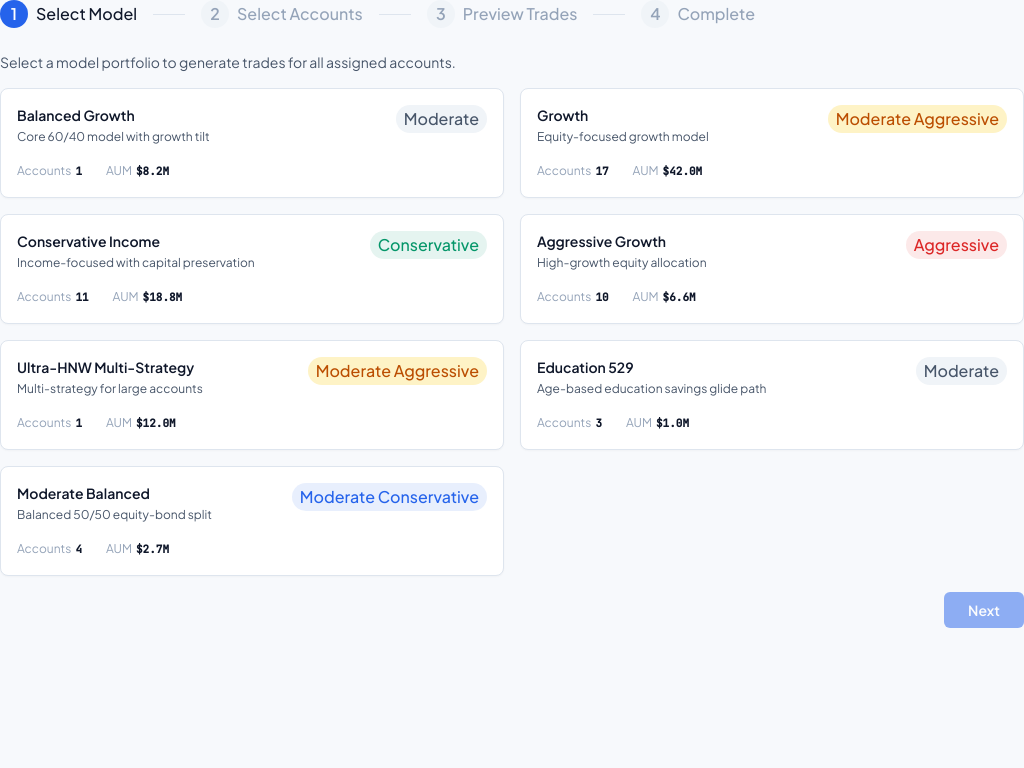
it: ModelTradeView renders the account's own data, not a hash of its id › acc-001 (USD): the already-correct case is unchanged, and the model asked for is named
Click the heading "Balanced Growth".
click(76, 115)  # box top-left (17, 106), bottom-right (135, 124)
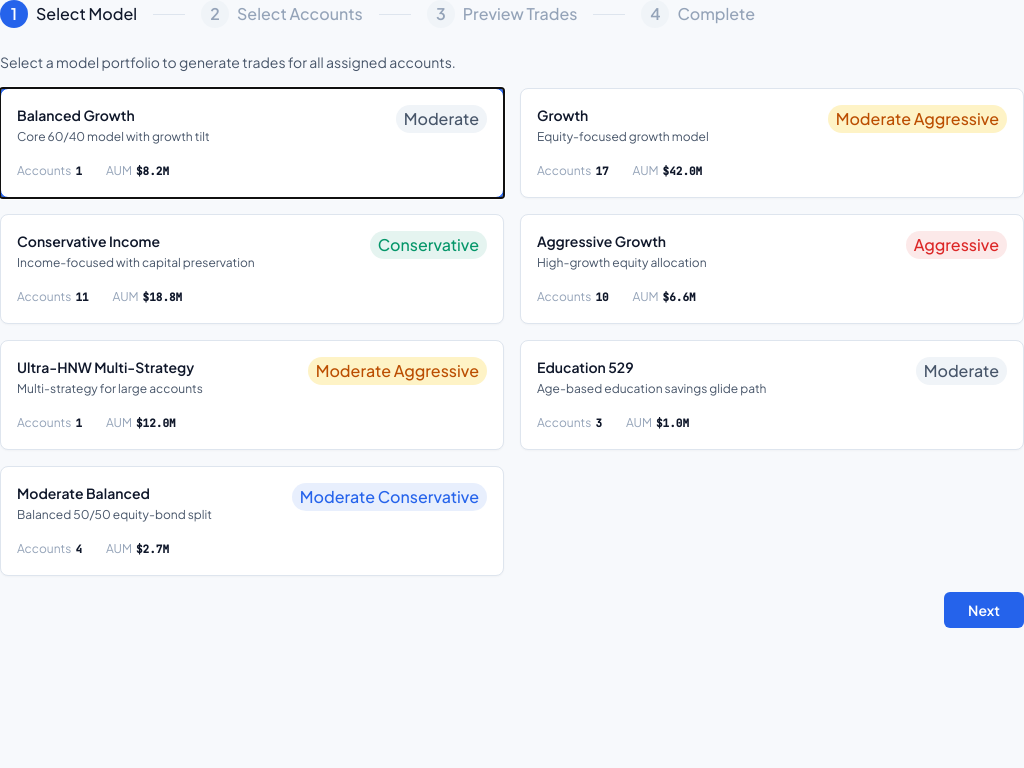
Click the button "Next".
click(984, 610)  # box top-left (944, 592), bottom-right (1023, 628)
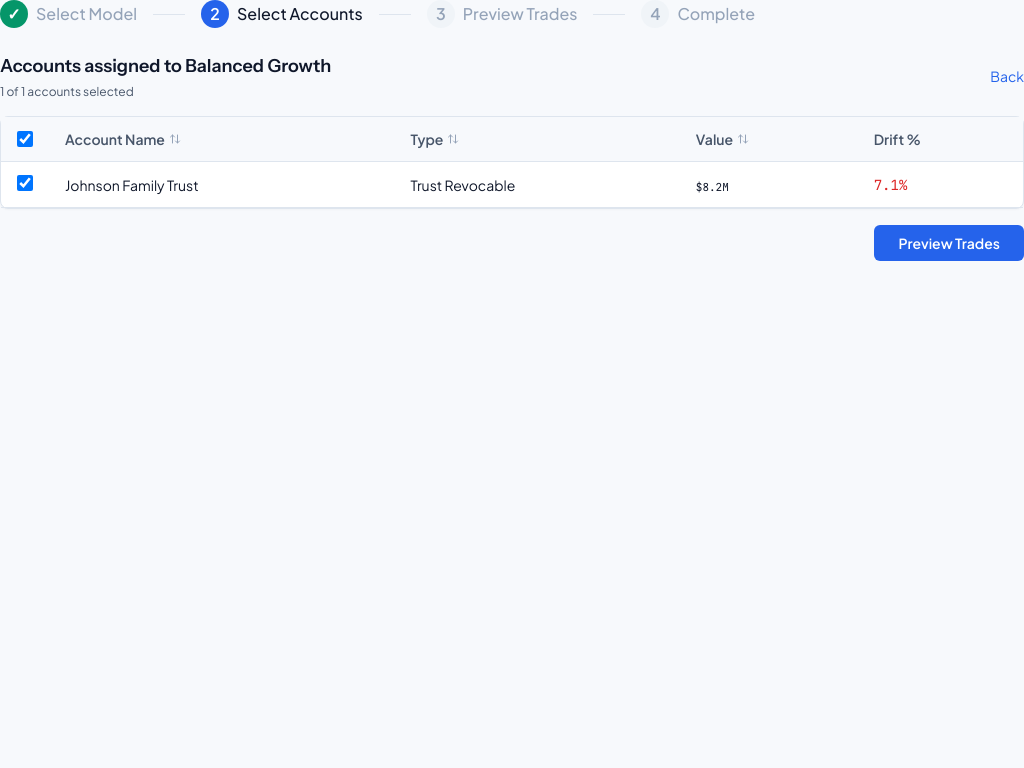
Expected: the heading "Accounts assigned to Balanced Growth" is shown, top-left (0, 52), bottom-right (331, 80)
Click the checkbox next to "Account Name".
click(25, 139)  # box top-left (17, 131), bottom-right (33, 147)
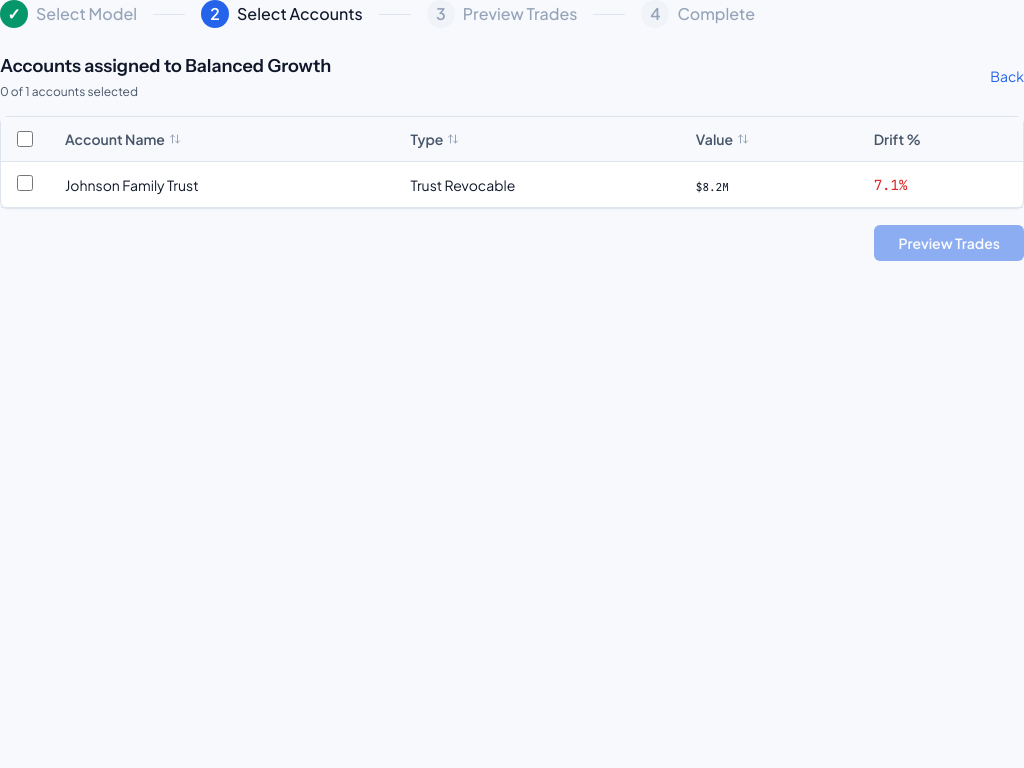
Click the checkbox next to "Johnson Family Trust".
click(25, 182)  # box top-left (17, 174), bottom-right (33, 190)
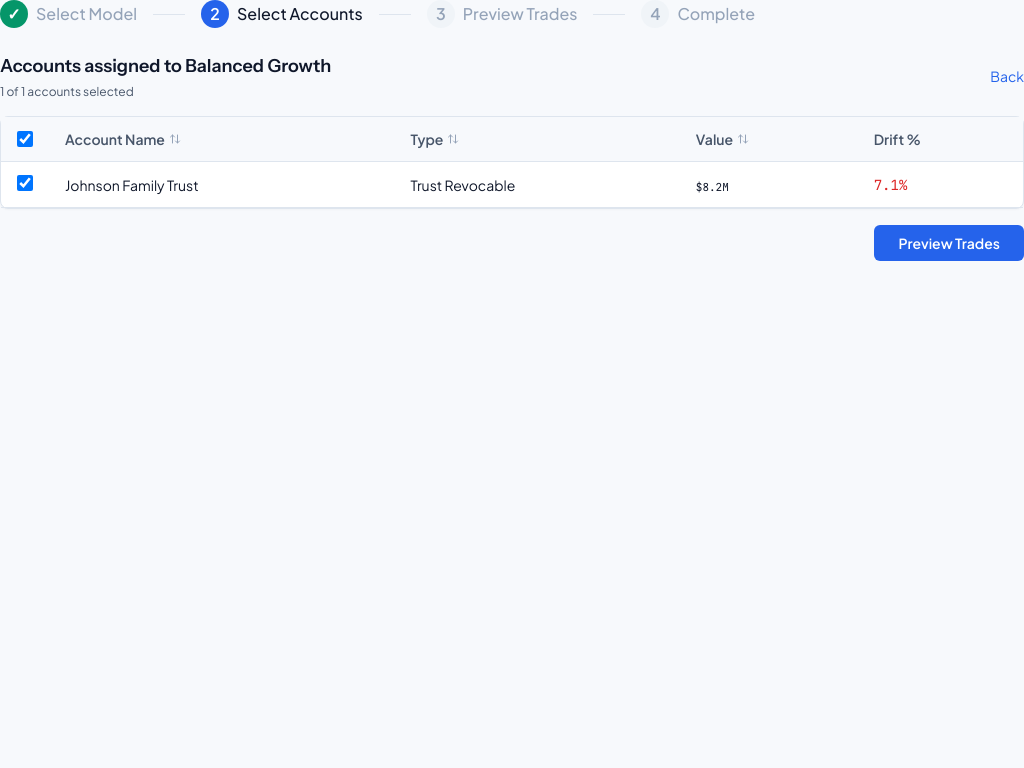
Click the button "Preview Trades".
click(949, 243)  # box top-left (874, 225), bottom-right (1023, 261)
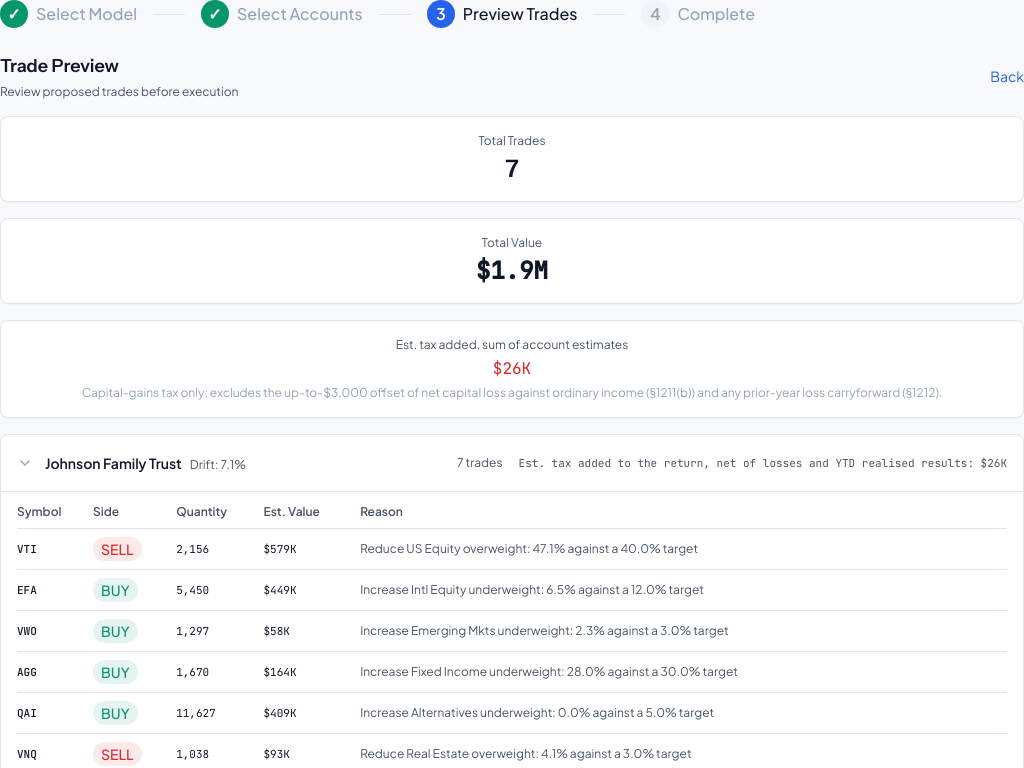
Expected: the text "Johnson Family Trust" is shown, top-left (45, 454), bottom-right (182, 472)
Expected: the text "$579K" is shown, top-left (264, 528), bottom-right (360, 570)
